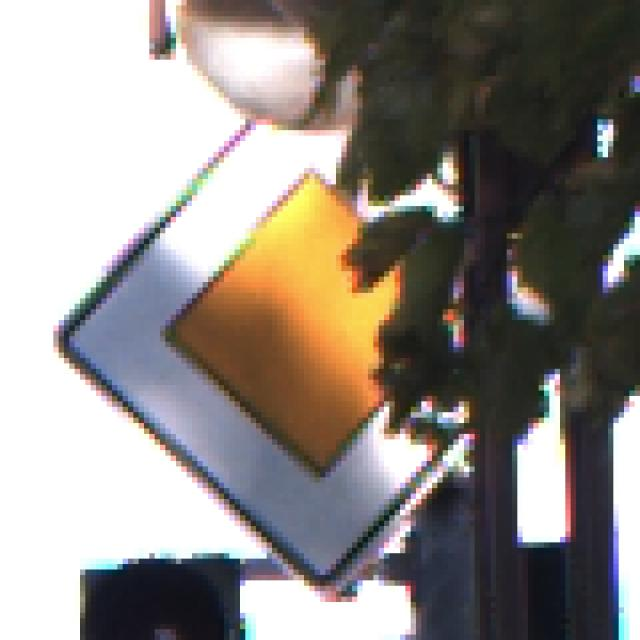Main Road: (54, 61, 588, 587)
